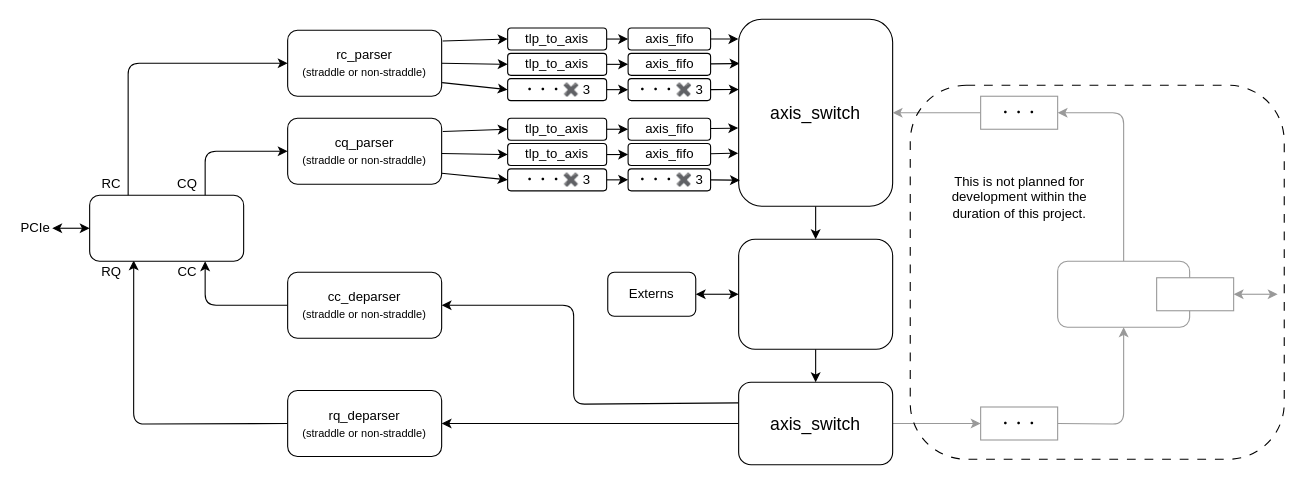
Some shapes in this 1307 by 484 pixel diagram are drawn without their labels. The box of each missing label's shape, as (x1, y1, x2, y2) in pixels:
CMAC: (1057, 260, 1190, 327)
PCIe UltraScale+ IP: (89, 194, 244, 261)
QSFP28: (1156, 277, 1234, 311)
Vitis Networking P4: (738, 238, 893, 349)
